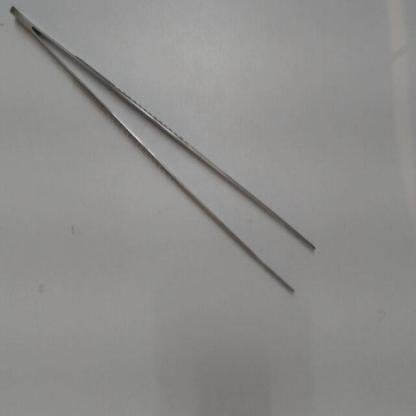DeBakey Dissector: (6, 0, 325, 312)
